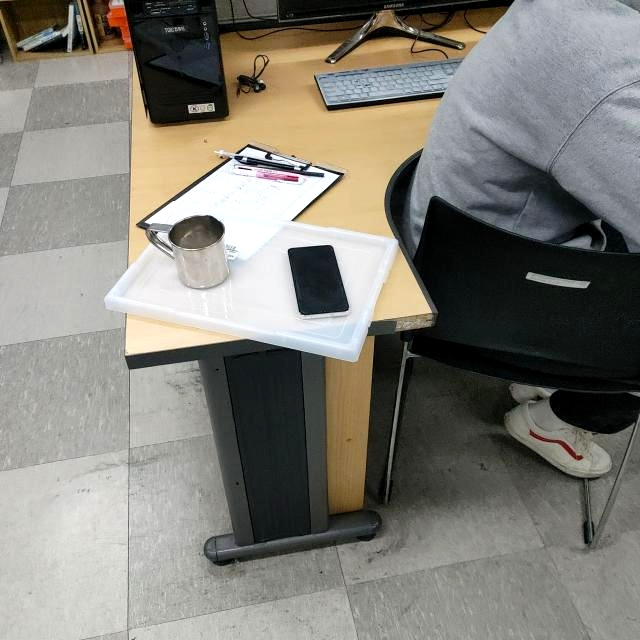cup: (143, 214, 231, 291)
phone: (283, 244, 351, 319)
